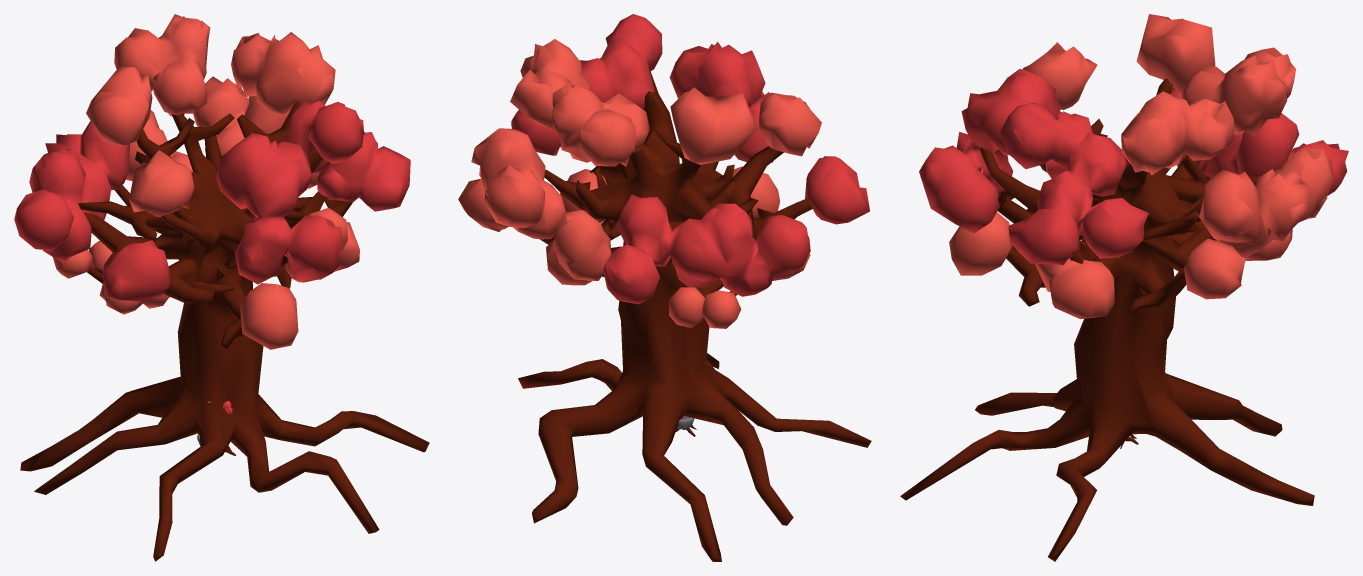
Rendered from trees.glb.
The picture shows the model from 3 angles, left to right: view 1: azimuth 30°, elevation 25°; view 2: azimuth 150°, elevation 25°; view 3: azimuth 270°, elevation 25°; orthographic projection. The views are drawn at different scales.
Parts seen in each view (by area): view 1: motherTree1_B1; view 2: motherTree1_B1; view 3: motherTree1_B1.
Part boxes in pixels (left/top/right/bottom): motherTree1_B1: left=14, top=14, right=429, bottom=561; motherTree1_B1: left=458, top=14, right=871, bottom=561; motherTree1_B1: left=900, top=14, right=1348, bottom=561.
Bounding box in the file's own units: 108 × 127 × 113.
65 materials, 65 textured.
